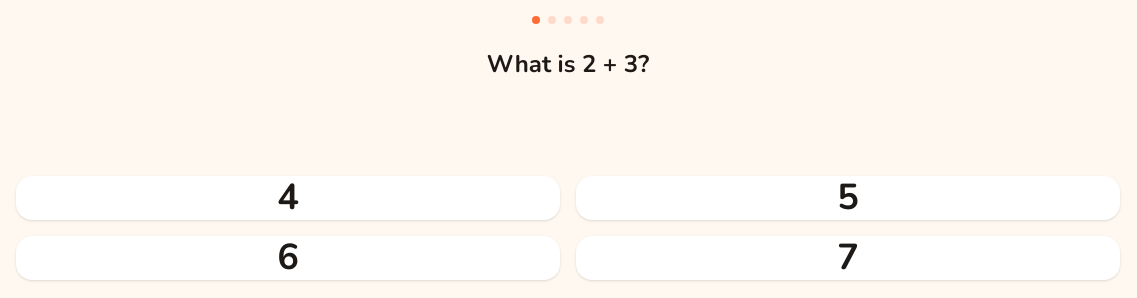
Test: FEED-01: Hint after 2nd wrong answer › shows hint text after second wrong answer on same problem
// First wrong
Click the button "4" at (288,198), box [16, 176, 560, 220]
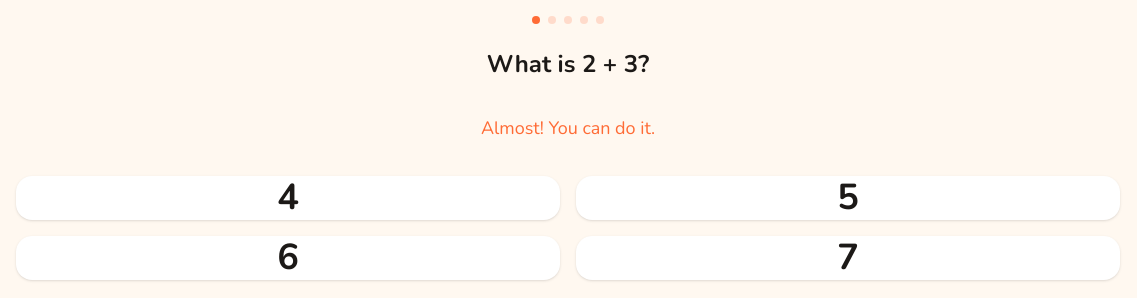
// Second wrong
Click the button "4" at (288,198), box [16, 176, 560, 220]
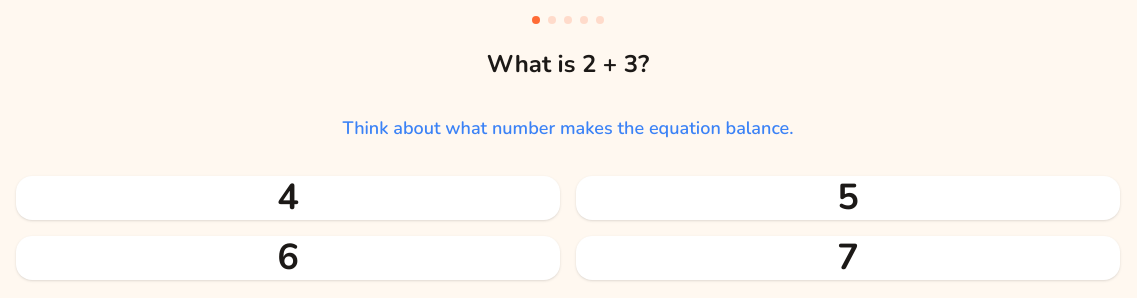
Result: the text "Think about what number makes the equation balance." is shown at [342, 114, 794, 142]
